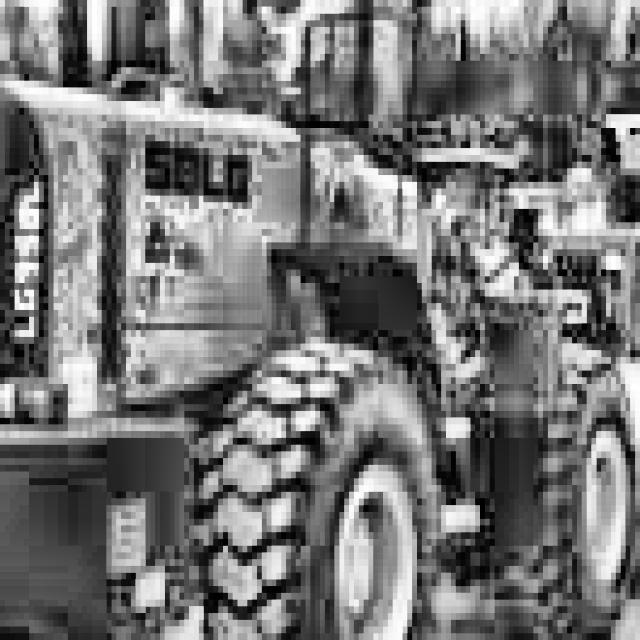buldozerpayloadergrader: (0, 0, 630, 640), (582, 81, 640, 613)
